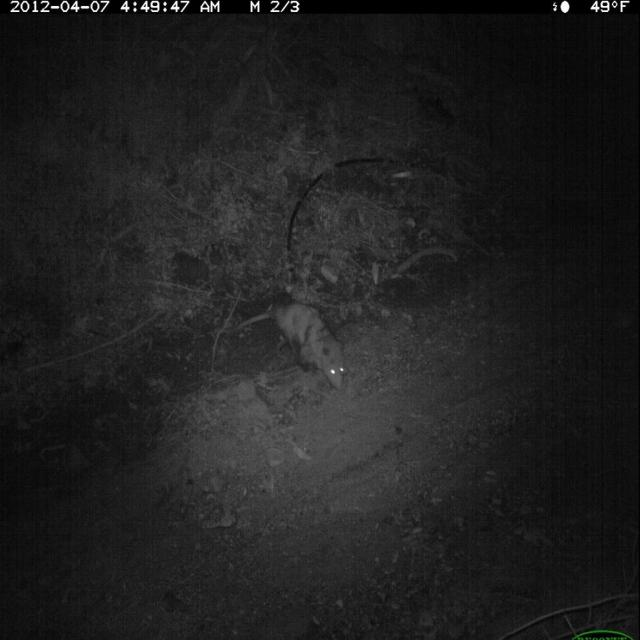opossum: (230, 293, 350, 397)
